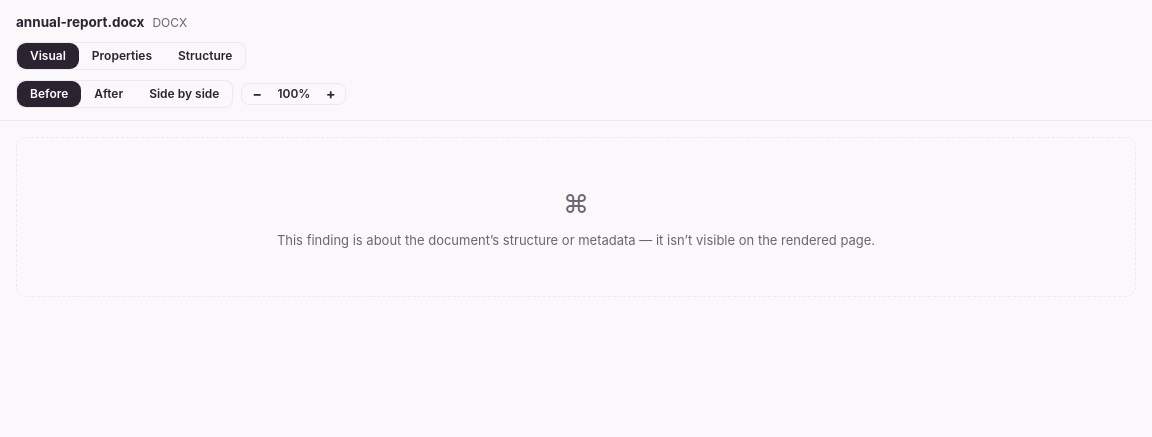
Test: RemediationPreview — adaptive view modes › Structure finding still exposes its metadata honestly in Properties
Click the tab "Properties": (122, 56) [79, 43, 165, 69]
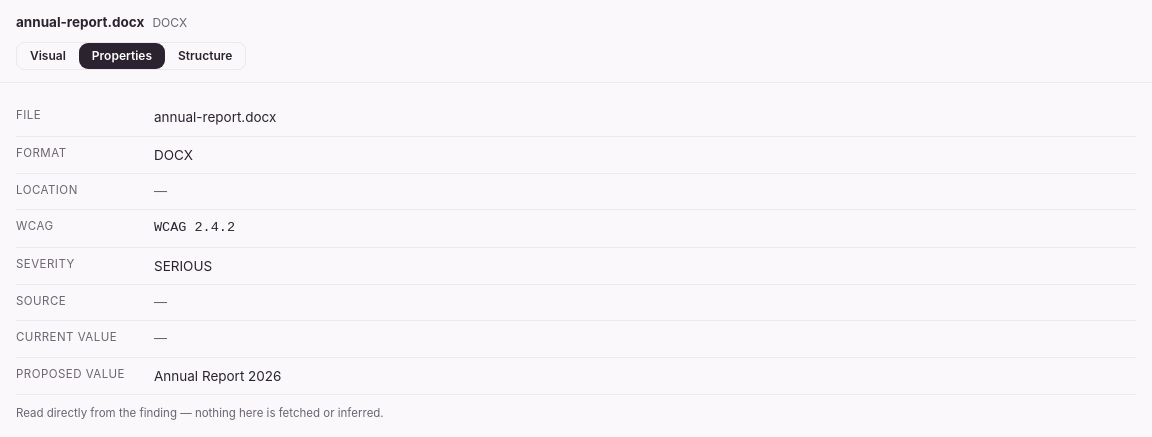
Expected: the text "WCAG 2.4.2" is shown, [154, 220, 235, 235]
Expected: the text "SERIOUS" is shown, [154, 258, 212, 274]
Expected: the text "Location" is shown, [16, 183, 78, 197]
